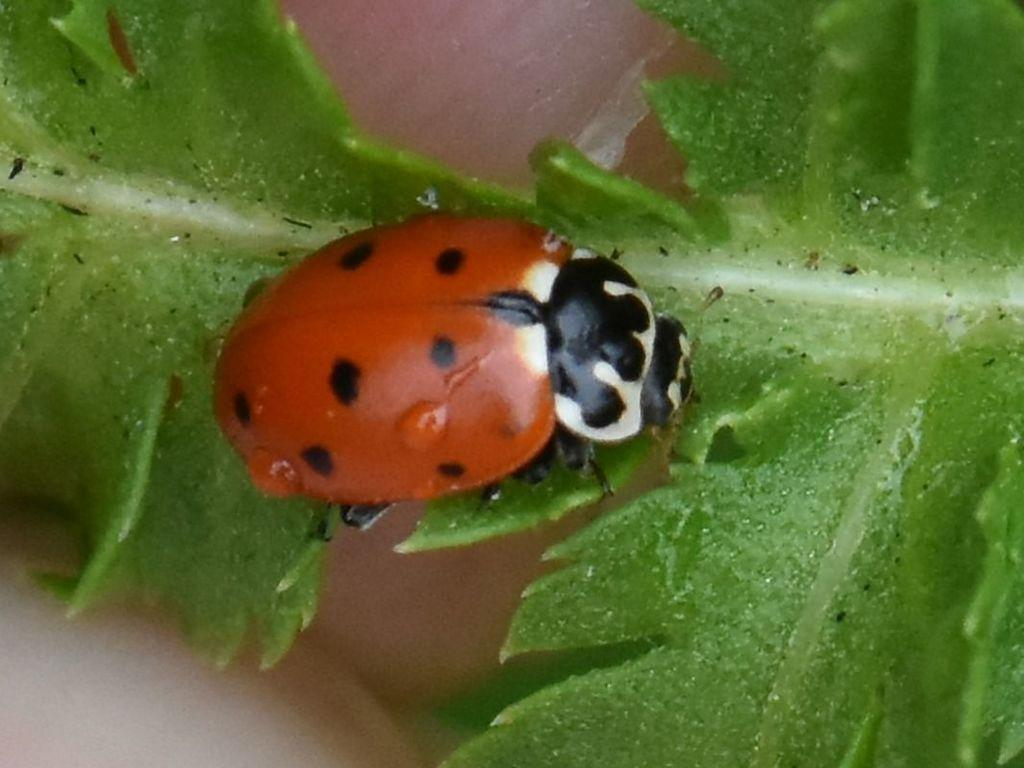ladybug: (209, 205, 709, 535)
